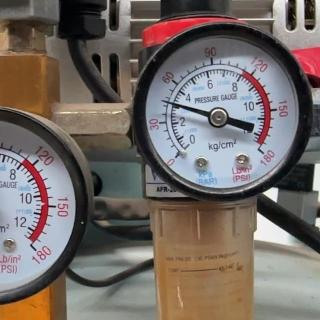gauge: (128, 16, 318, 204), (0, 103, 93, 313), (166, 140, 196, 170), (208, 106, 228, 128), (252, 141, 272, 163), (25, 236, 43, 260), (158, 97, 168, 105)
